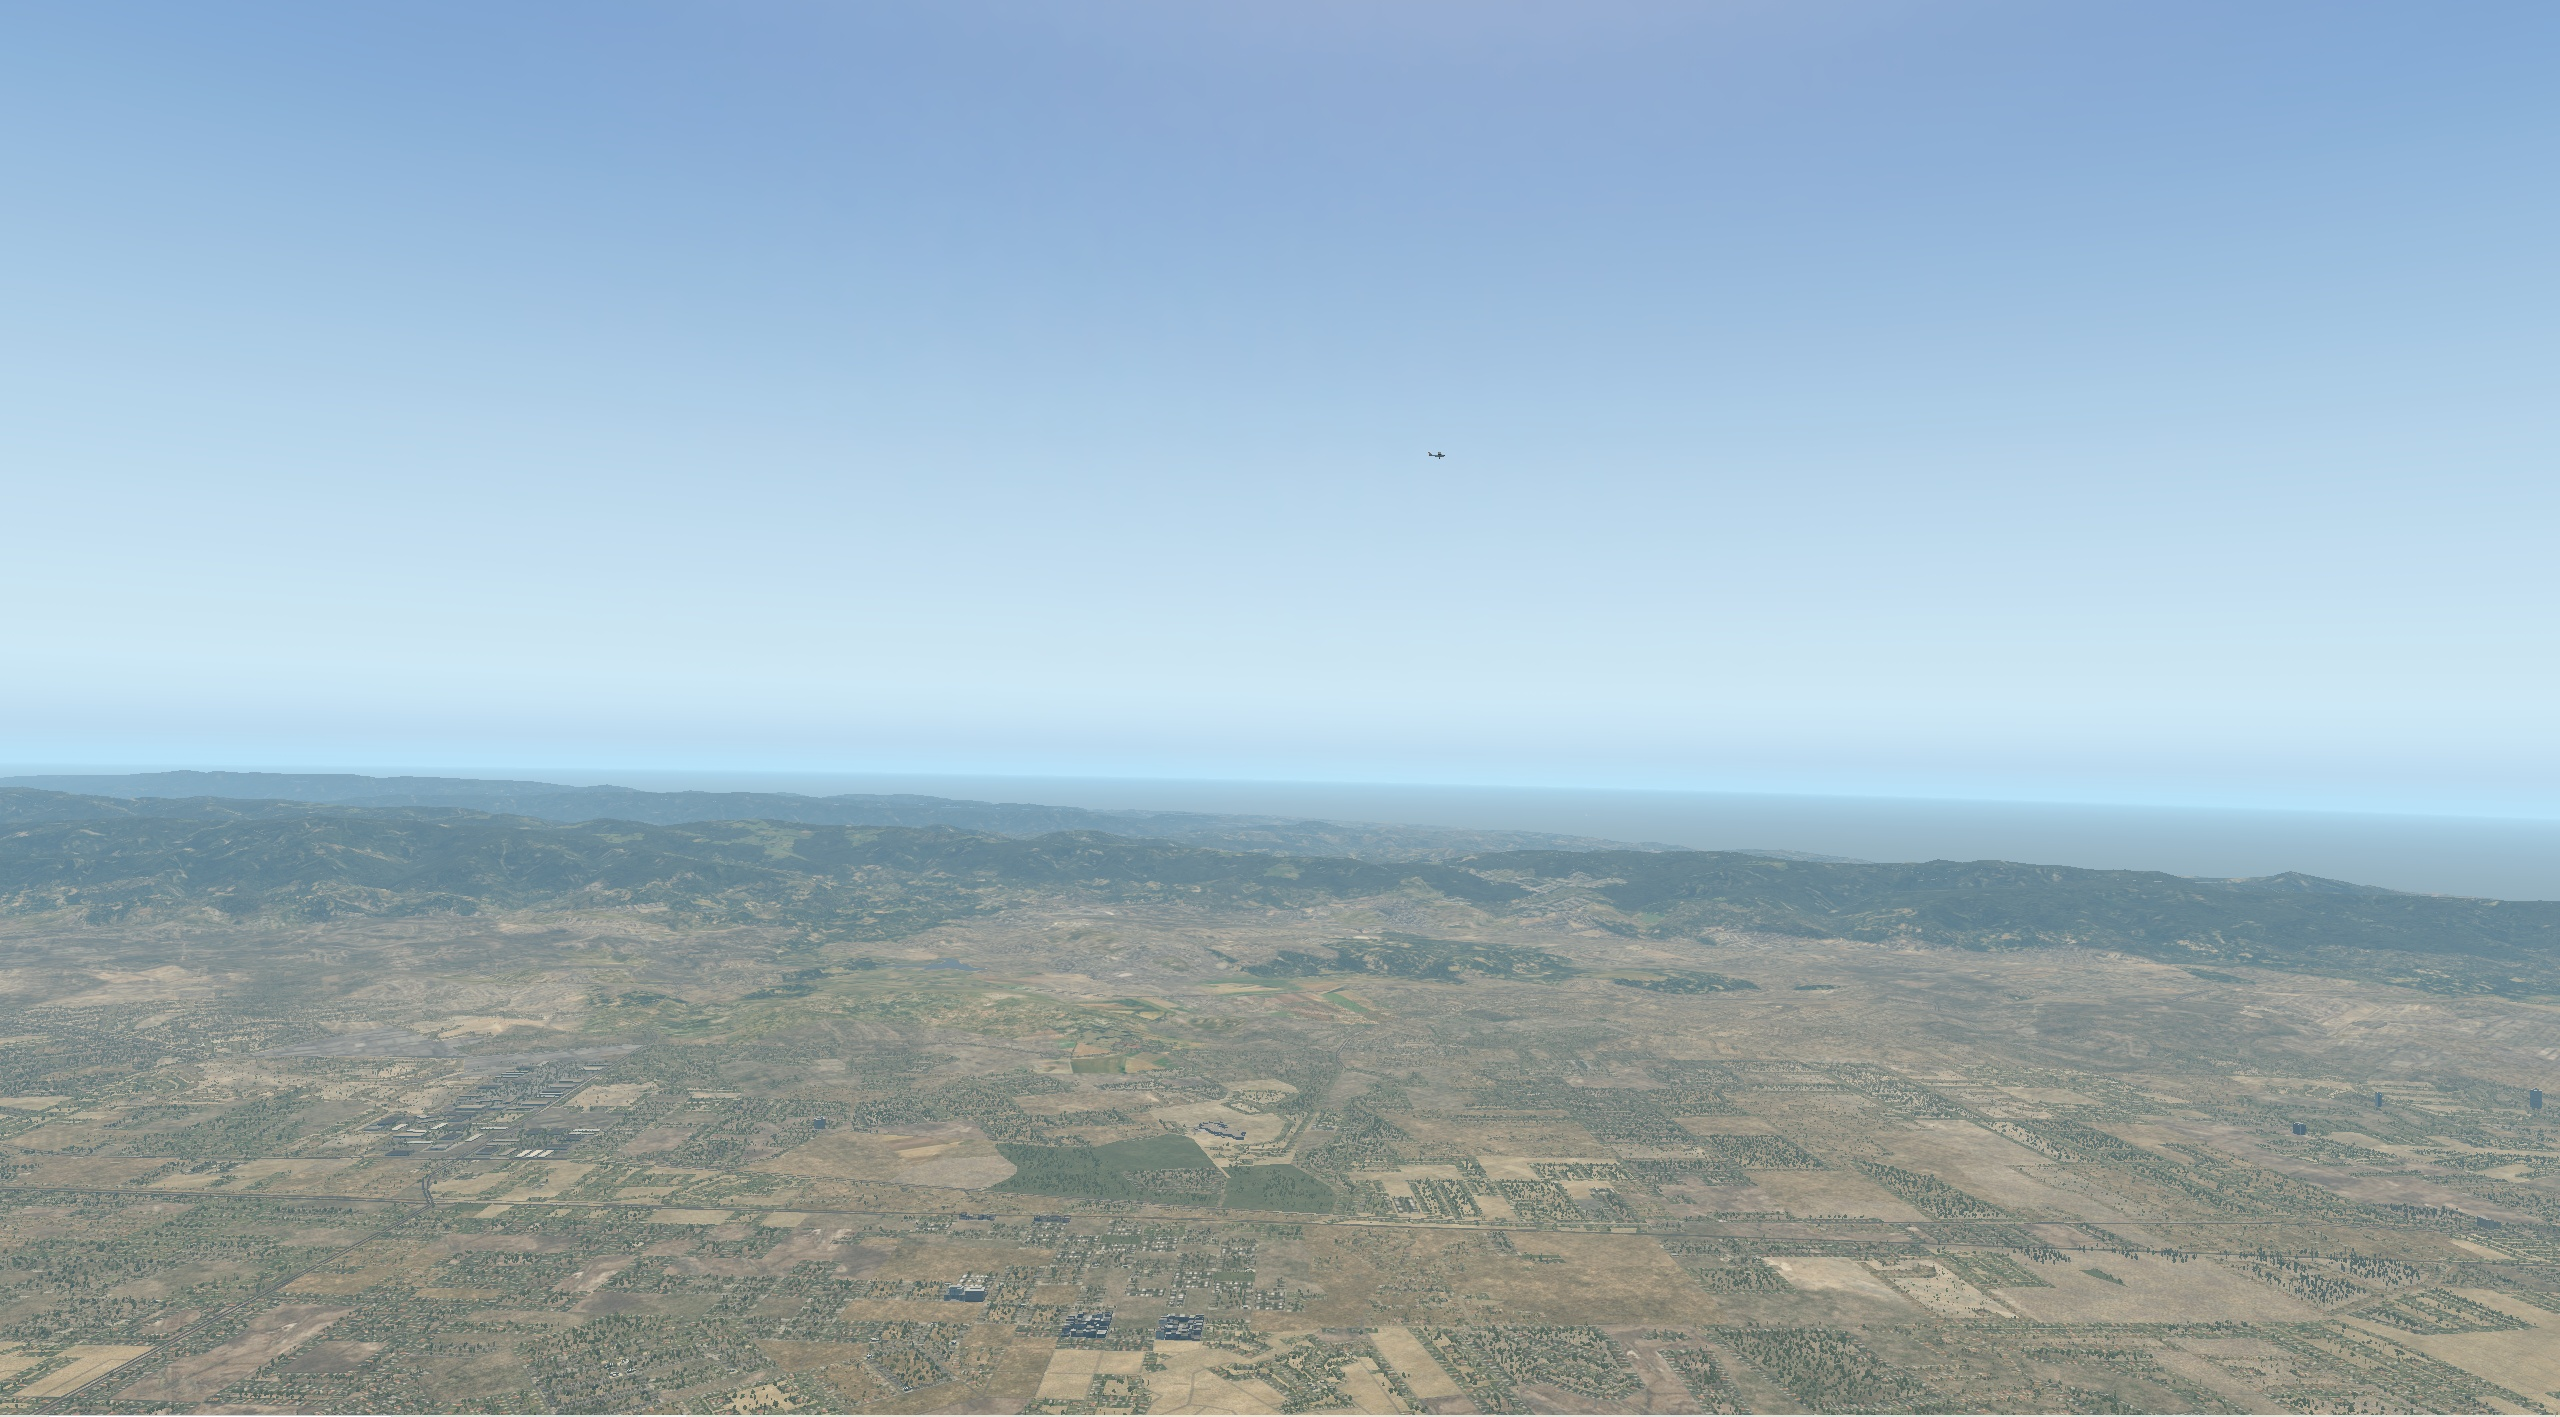aircraft: (1427, 450, 1454, 461)
